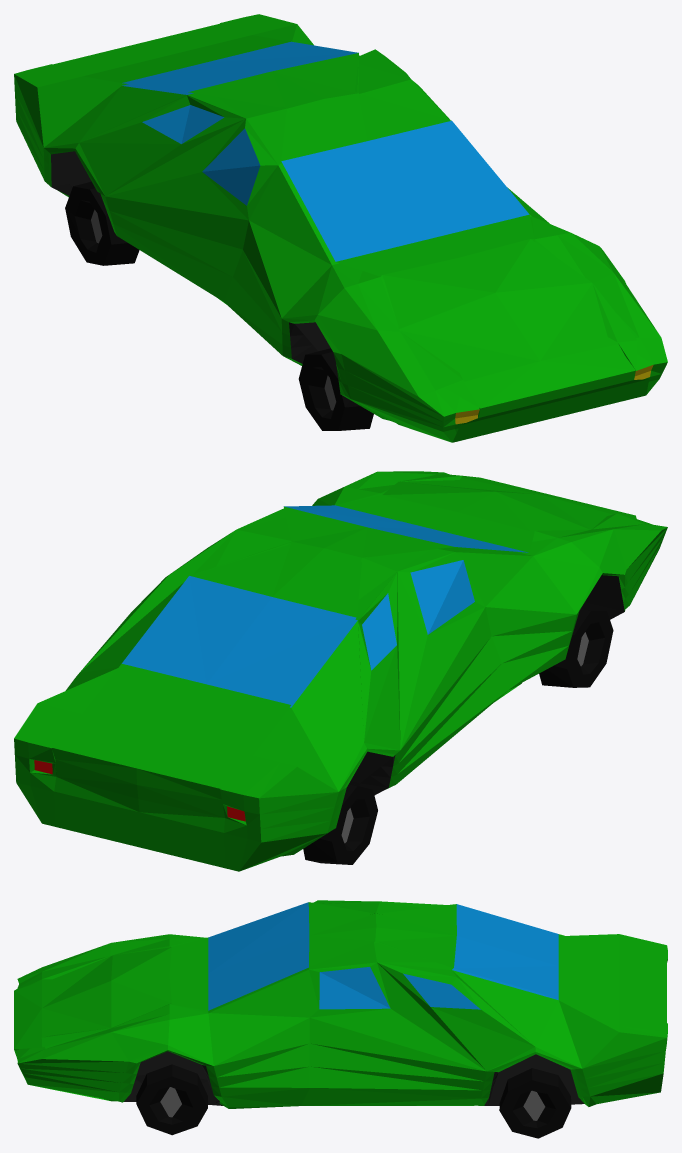
Rendered from car2.obj.
3 views of the same model, one above another, from view 1: azimuth 30°, elevation 25°; view 2: azimuth 150°, elevation 25°; view 3: azimuth 270°, elevation 25° (orthographic). The views are drawn at different scales.
Parts seen in each view (by area): view 1: Car.Body.001; view 2: Car.Body.001; view 3: Car.Body.001.
Part boxes in pixels (x1,y1,x2,y2): Car.Body.001: (14,14,667,442); Car.Body.001: (14,471,667,871); Car.Body.001: (14,900,667,1138).
Size of the model in its own units: 1.12 by 0.7715 by 2.77.
